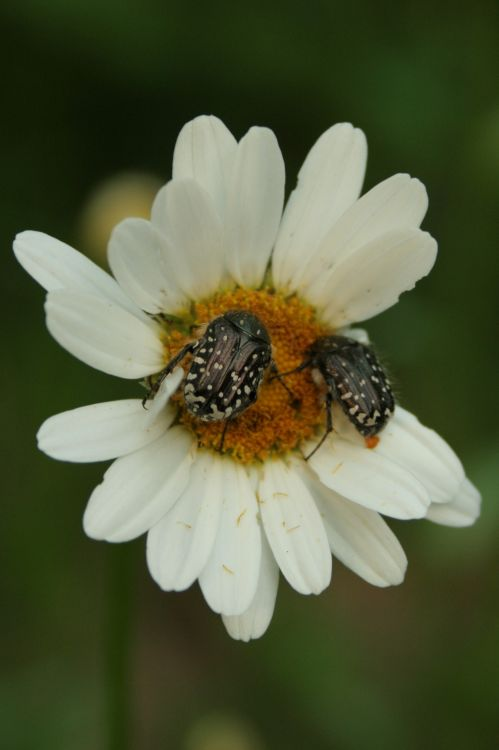Oxythyrea_funesta: (142, 301, 279, 455), (298, 324, 405, 466)
